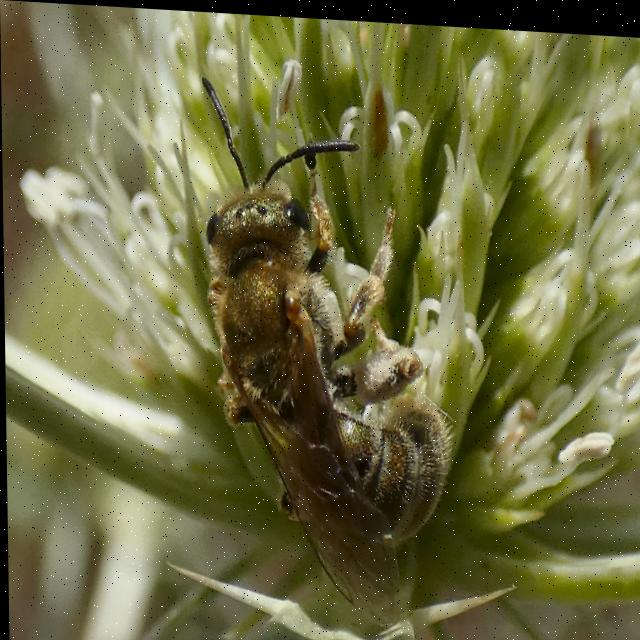Lasioglossum: (184, 64, 470, 610)
